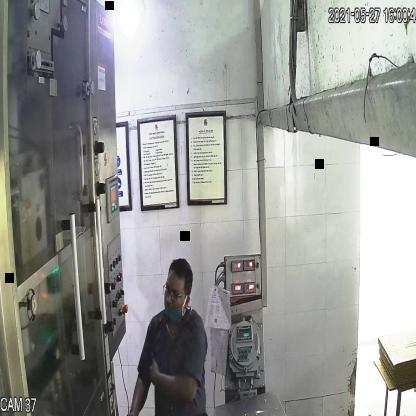goggles: (161, 282, 192, 304)
